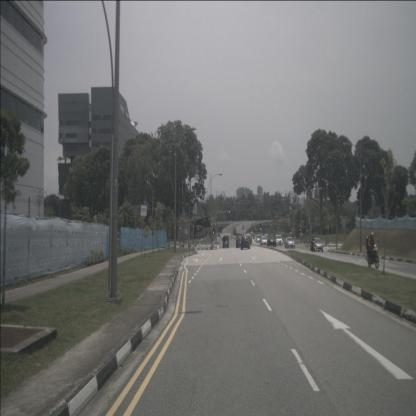vehicle-car: (310, 237, 324, 252), (284, 236, 296, 249), (240, 235, 250, 250), (266, 234, 276, 248), (222, 235, 230, 248), (236, 235, 244, 248), (275, 235, 283, 246), (245, 235, 252, 245), (261, 236, 268, 245), (256, 235, 261, 242)
vehicle-motorcycle: (364, 232, 380, 269), (310, 236, 316, 252)
